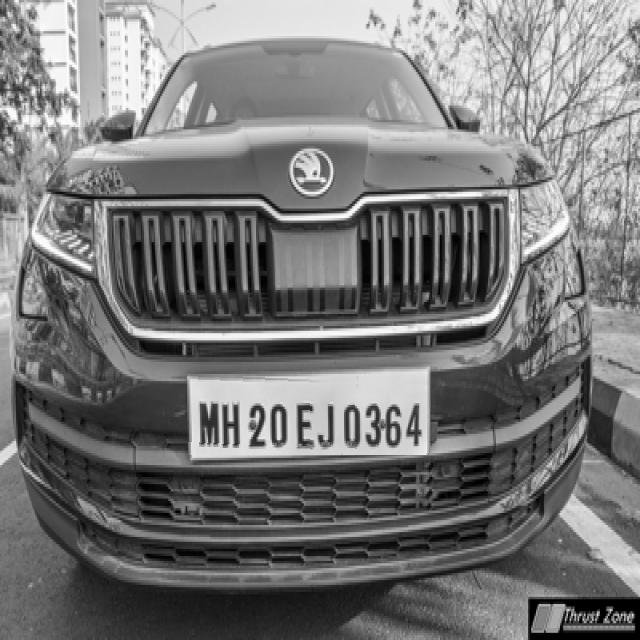licence: (186, 374, 430, 455)
